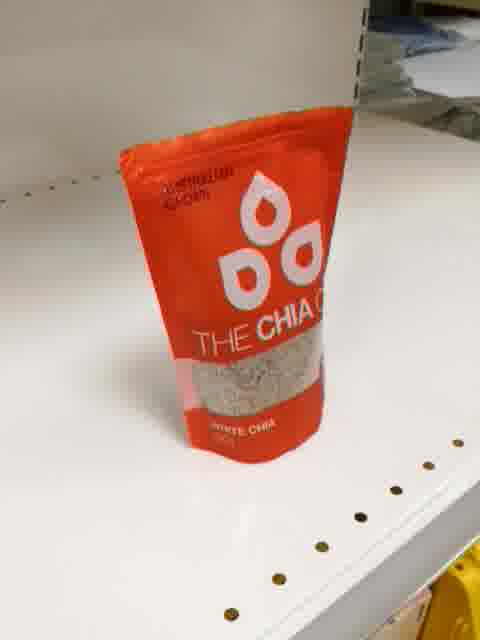whitechia: (115, 104, 353, 466)
